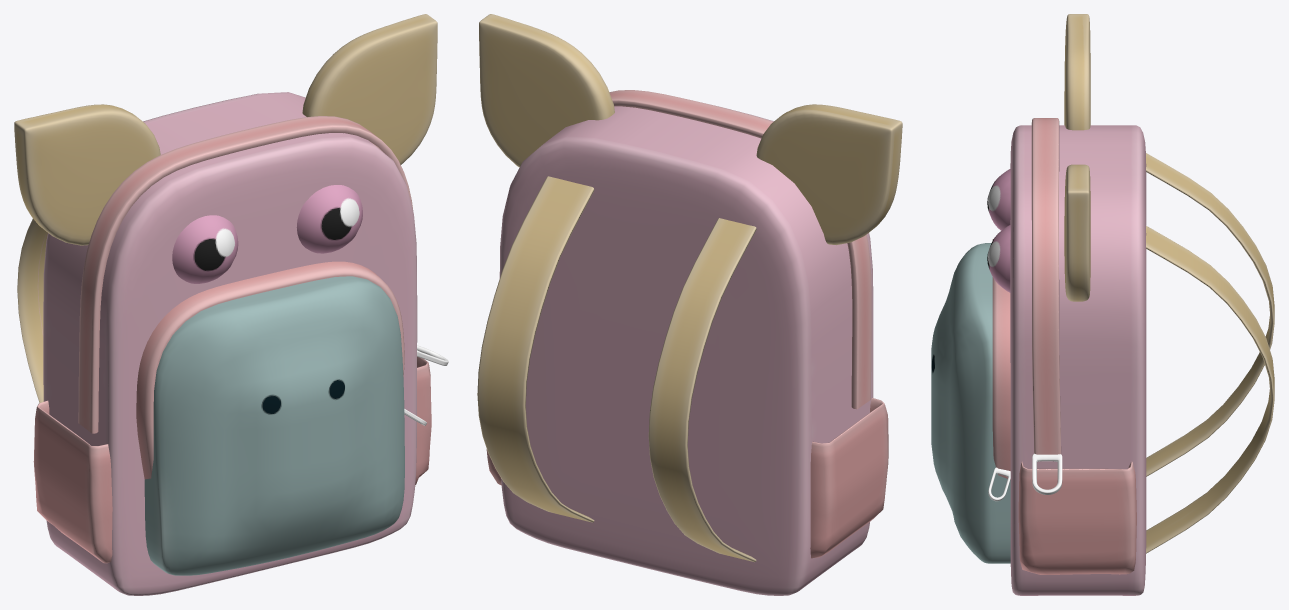
File: school_bag.glb
3 views of the same model, side by side, from view 1: azimuth 30°, elevation 25°; view 2: azimuth 150°, elevation 25°; view 3: azimuth 270°, elevation 25° (orthographic). The views are drawn at different scales.
Visible parts, largest first — view 1: pPipe6; view 2: pPipe6; view 3: pPipe6.
Boxes of the visible parts, x1=… form: pPipe6: x1=14, y1=14, x2=448, y2=595; pPipe6: x1=477, y1=14, x2=902, y2=595; pPipe6: x1=931, y1=14, x2=1274, y2=595.
Size of the model in its own units: 0.011 by 0.0122 by 0.00864.
Materials: 1 (1 with a texture image).
